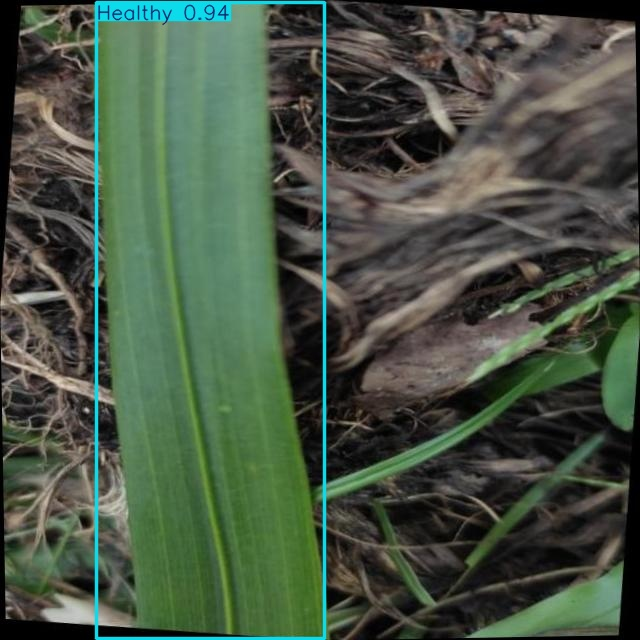Healthy: (96, 2, 325, 639)
